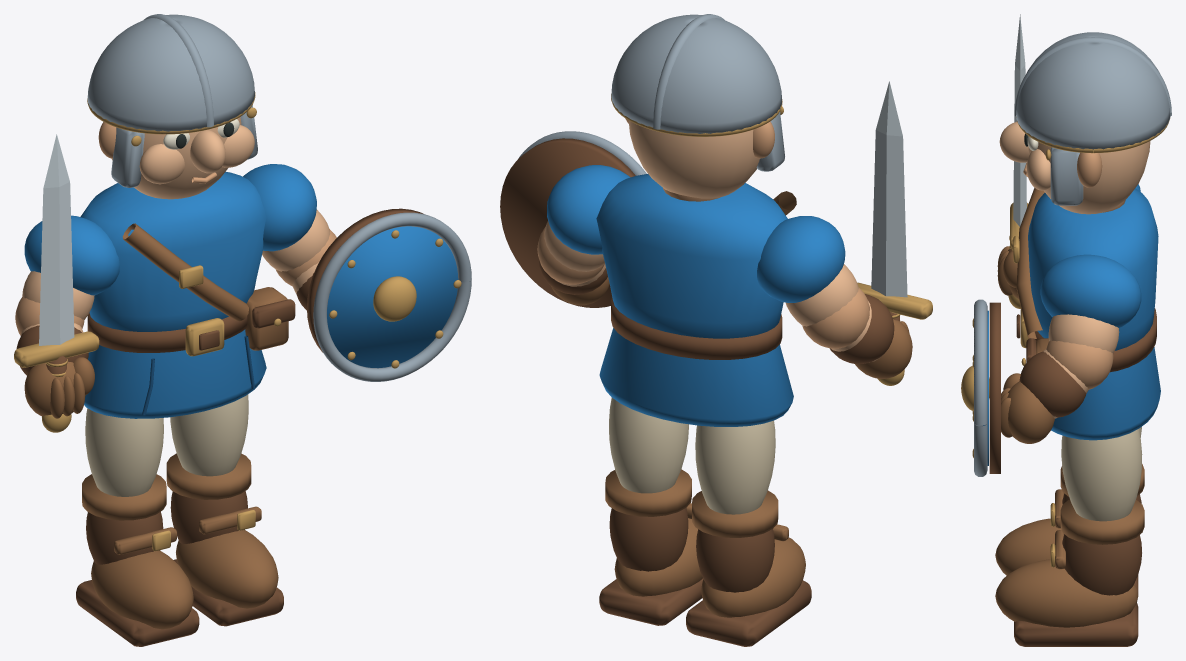
Rendered from soldaat_beginner.glb.
3 views of the same model, side by side, from view 1: azimuth 30°, elevation 25°; view 2: azimuth 150°, elevation 25°; view 3: azimuth 270°, elevation 25° (orthographic). The views are drawn at different scales.
Visible parts, largest first — view 1: Tunic_torso, Helmet_dome, Shield_team_face, Tunic_skirt, Shield_metal_rim, Boot_toe, Boot_toe.001, Sword_blade, Trouser_leg, Trouser_leg.001, Sleeve.001, Sleeve (+27 smaller); view 2: Tunic_torso, Helmet_dome, Tunic_skirt, Shield_core, Head, Trouser_leg, Sword_blade, Sleeve, Trouser_leg.001, Sleeve.001, Boot_shaft.001, Boot_shaft (+21 smaller); view 3: Helmet_dome, Tunic_torso, Boot_toe.001, Trouser_leg.001, Sleeve.001, Tunic_skirt, Boot_shaft.001, Head, Boot_sole.001, Bracer.001, Shield_metal_rim, Boot_cuff.001 (+18 smaller).
Boxes of the visible parts, x1,y1,x2,y2 form: Tunic_torso: (80,171,266,331); Helmet_dome: (87,14,254,131); Shield_team_face: (327,226,458,368); Tunic_skirt: (84,329,266,418); Shield_metal_rim: (313,212,471,381); Boot_toe: (91,550,193,629); Boot_toe.001: (176,530,278,608); Sword_blade: (39,134,74,345); Trouser_leg: (85,408,163,496); Trouser_leg.001: (170,394,248,476); Sleeve.001: (243,164,316,251); Sleeve: (24,215,119,295); Tunic_torso: (596,174,787,338); Helmet_dome: (611,14,781,133); Tunic_skirt: (599,328,793,426); Shield_core: (500,138,635,307); Head: (628,120,759,198); Trouser_leg: (695,420,775,514); Sword_blade: (871,81,907,297); Sleeve: (757,216,845,302); Trouser_leg.001: (609,397,688,493); Sleeve.001: (547,165,630,254); Boot_shaft.001: (609,508,688,571); Boot_shaft: (696,529,774,592); Helmet_dome: (1016,32,1170,149); Tunic_torso: (1028,188,1158,350); Boot_toe.001: (995,559,1138,627); Trouser_leg.001: (1061,429,1142,521); Sleeve.001: (1040,254,1141,327); Tunic_skirt: (1051,347,1160,440); Boot_shaft.001: (1062,534,1141,595); Head: (1028,141,1150,214); Boot_sole.001: (1014,603,1138,646); Bracer.001: (1019,351,1086,417); Shield_metal_rim: (974,299,987,476); Boot_cuff.001: (1060,499,1144,544).
Size of the model in its own units: 1.59 by 2.04 by 0.678.
